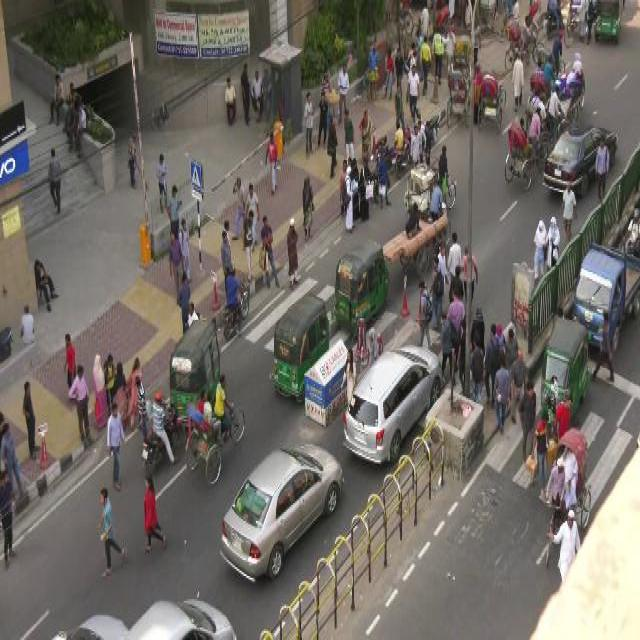car: (217, 438, 345, 586), (342, 336, 442, 460), (541, 118, 619, 198)
motorbike: (137, 401, 181, 477), (220, 285, 250, 344)
pickup: (570, 234, 640, 356)
rickshaw: (540, 425, 590, 574), (181, 372, 245, 486), (502, 104, 548, 191), (476, 73, 506, 137), (444, 68, 471, 128)
three wheelers -CNG-: (267, 289, 329, 411), (164, 312, 220, 420), (536, 323, 590, 431), (329, 236, 388, 332)
wheelbarrow: (393, 207, 451, 277)
